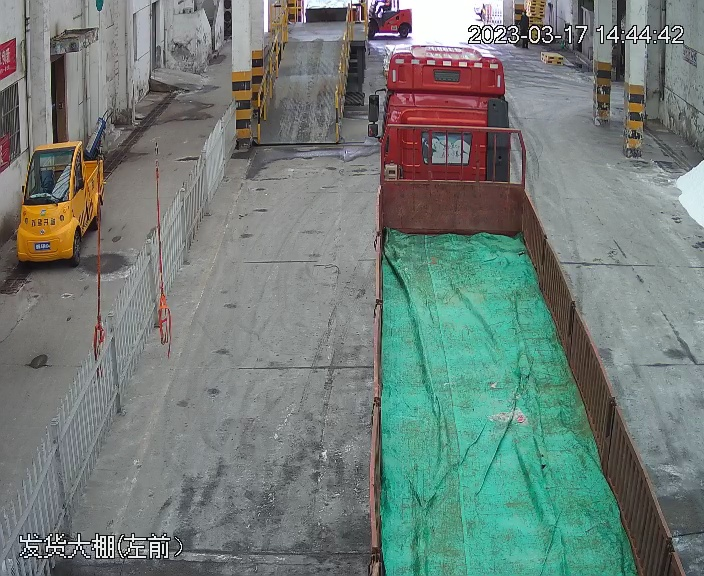truck: (355, 44, 698, 572)
